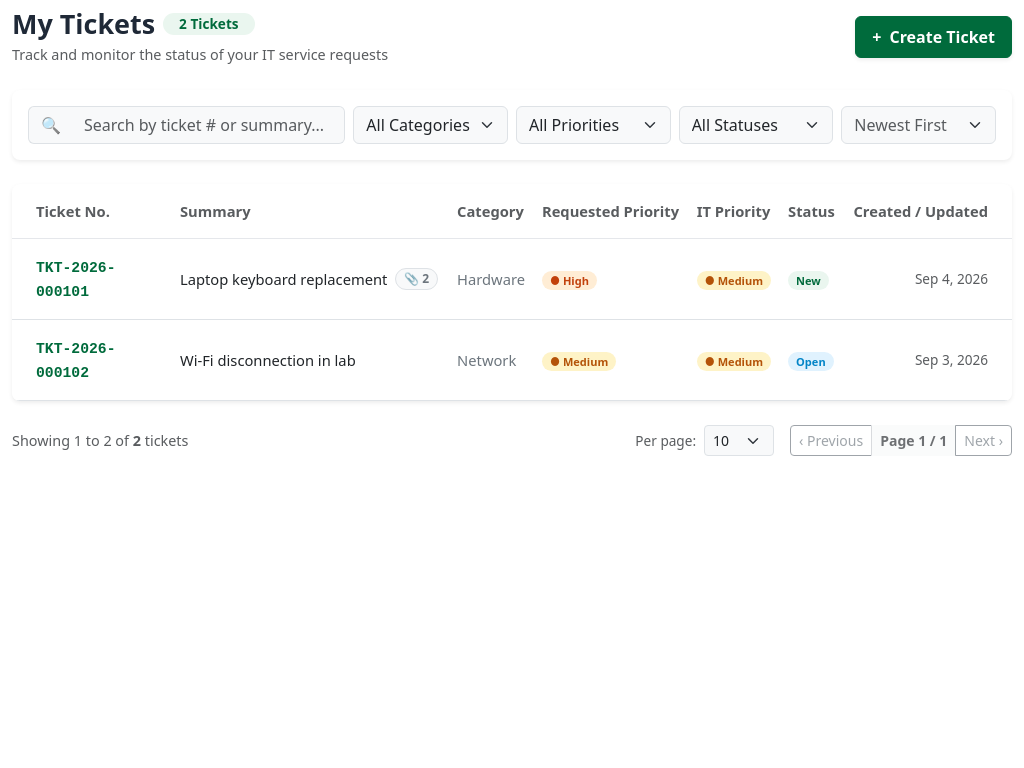
Test: MyTickets Component Tests (UI-05, UI-06) › UI-06: renders no-results state with clear button when filters yield 0 matches (AC-09)
Expected: the table with test id "tickets-table" is shown, [12, 184, 1012, 401]
// Type in search input to filter
Type "nonexistent query" into the field with test id "search-tickets-input" at (209, 125), box [72, 106, 345, 144]
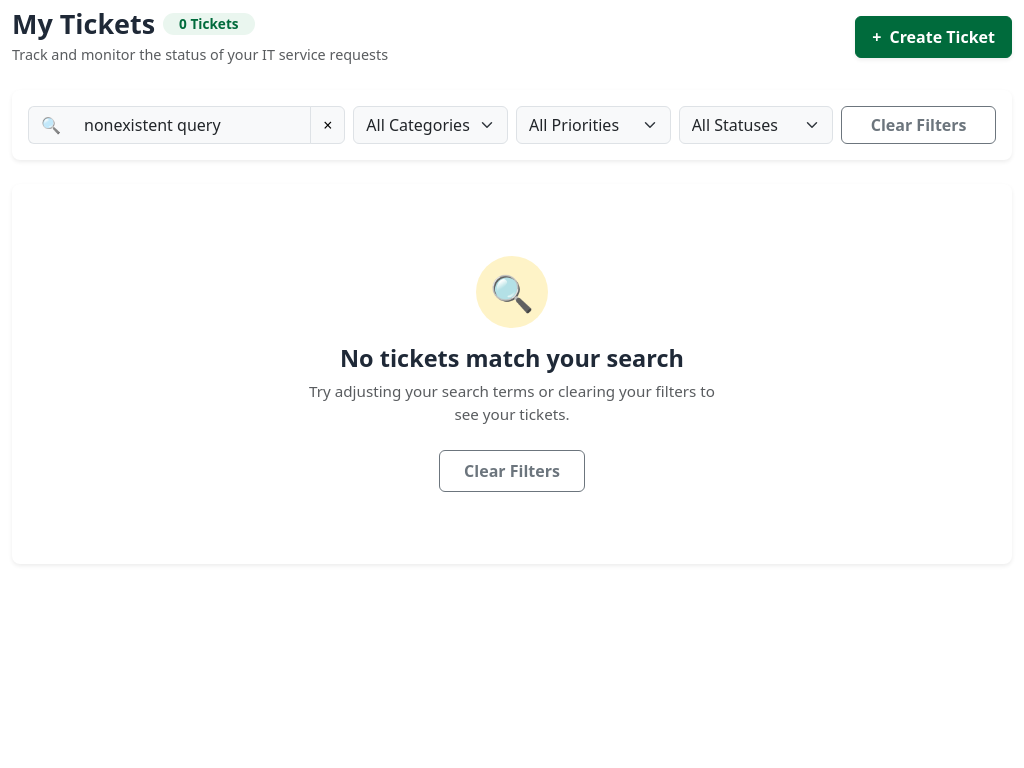
Expected: the element with test id "no-results-state" is shown, [12, 184, 1012, 564]
Expected: the heading "No tickets match your search" is shown, [340, 342, 684, 374]
// Clicking Clear Filters resets search input and restores list
Click the button with test id "no-results-clear-btn" at (512, 471), box [439, 450, 585, 492]
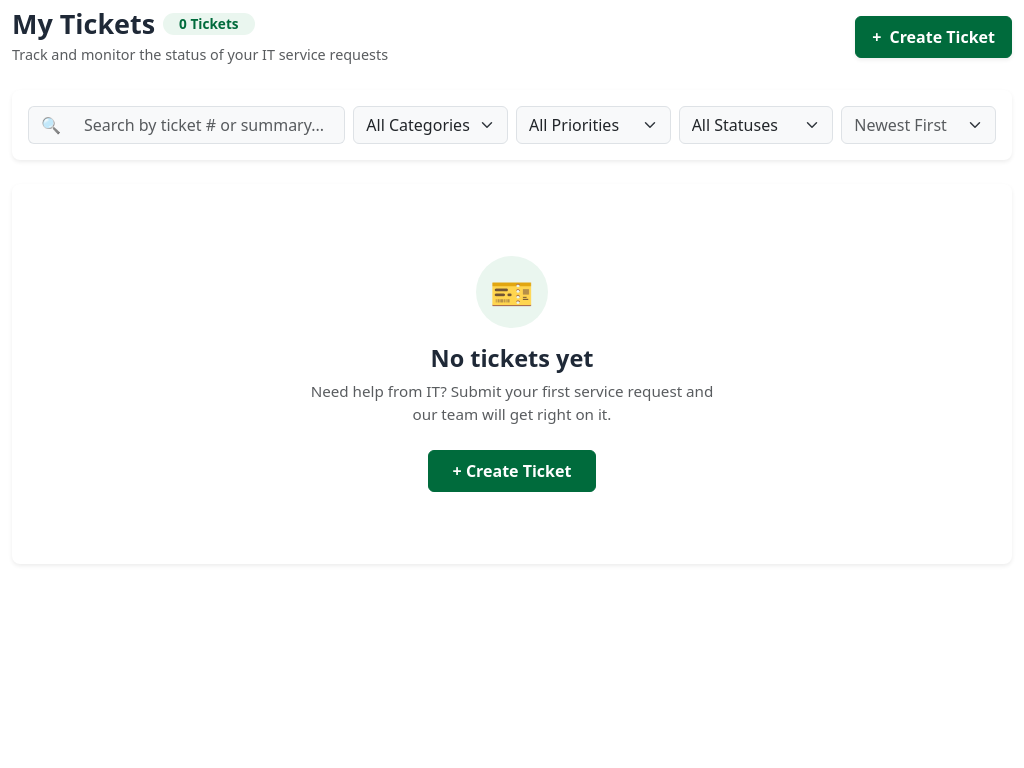
Expected: the field with test id "search-tickets-input" is empty, [72, 106, 345, 144]
